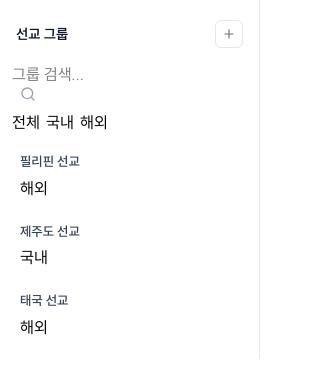
Test case: GroupPanel › "해외" 필터를 선택하면 해외 그룹만 표시한다
Click the radio button labelled "해외". click: (94, 122)
box: [80,110,108,134]
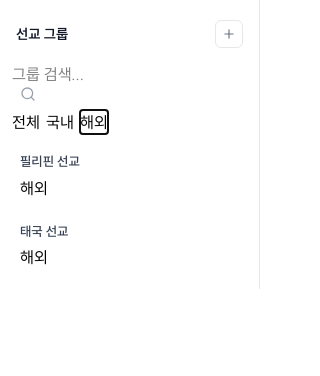
Expected: the text "필리핀 선교" is shown, [20,153,80,169]
Expected: the link "제주도 선교" is gone
